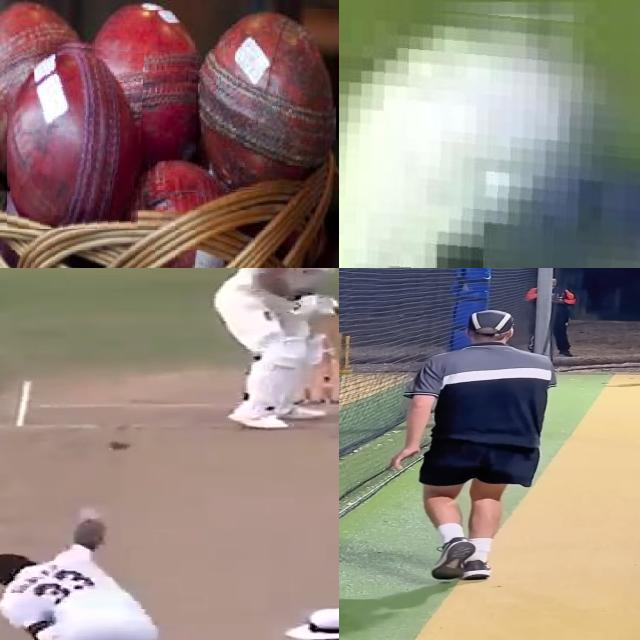Cricket ball: (339, 0, 640, 268), (189, 9, 339, 192), (7, 41, 144, 229), (107, 437, 133, 452)
